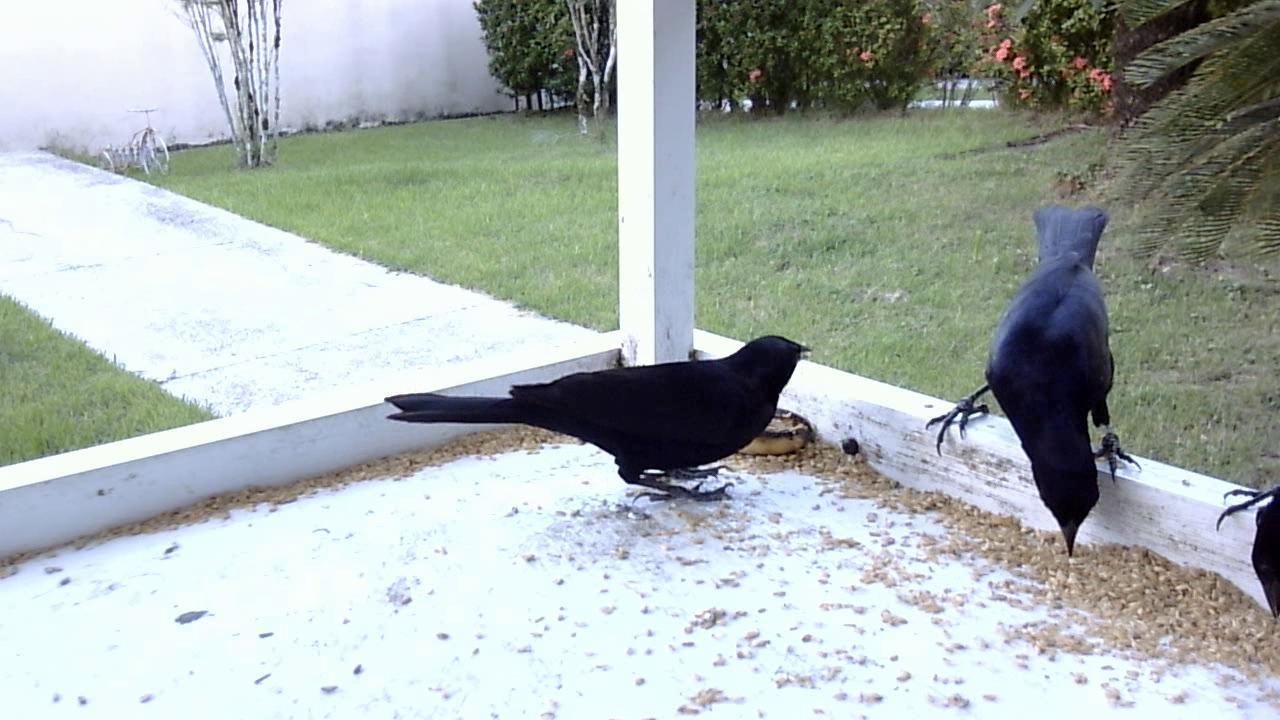chupim: (917, 196, 1152, 564), (389, 321, 818, 510), (1207, 458, 1278, 617)
